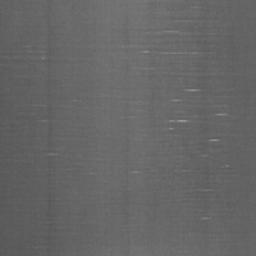Waist folding: (121, 16, 228, 134), (131, 135, 221, 175), (0, 44, 60, 61), (190, 187, 213, 193), (46, 151, 59, 157)
